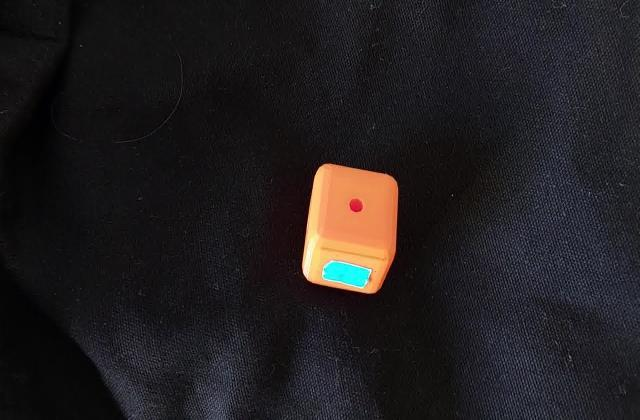blue: (336, 264, 350, 282)
cube: (298, 159, 402, 298)
